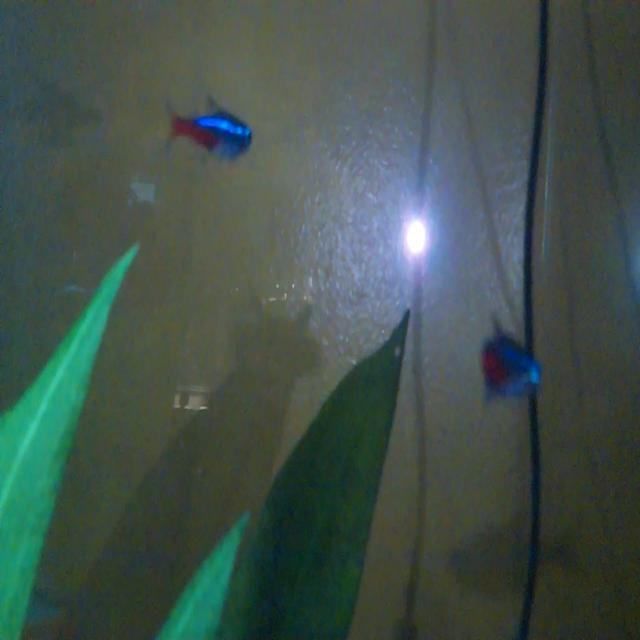fish: (163, 94, 266, 172), (471, 317, 543, 414)
